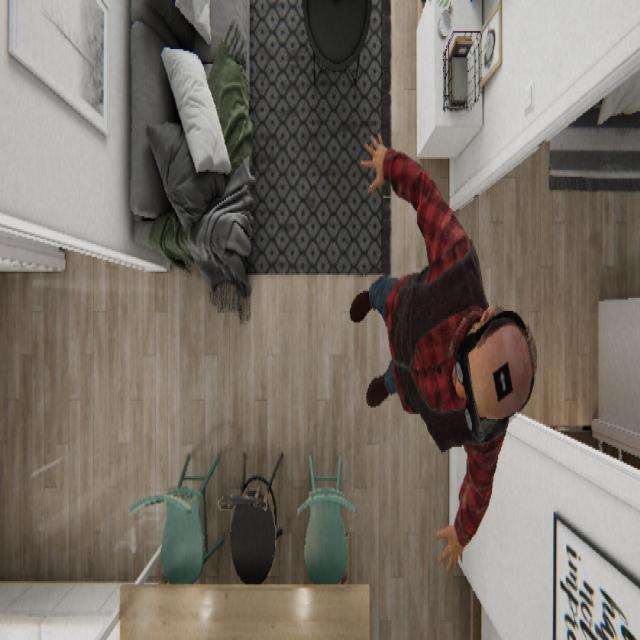Human: (348, 129, 537, 573)
UnityLogo: (491, 358, 514, 402)
